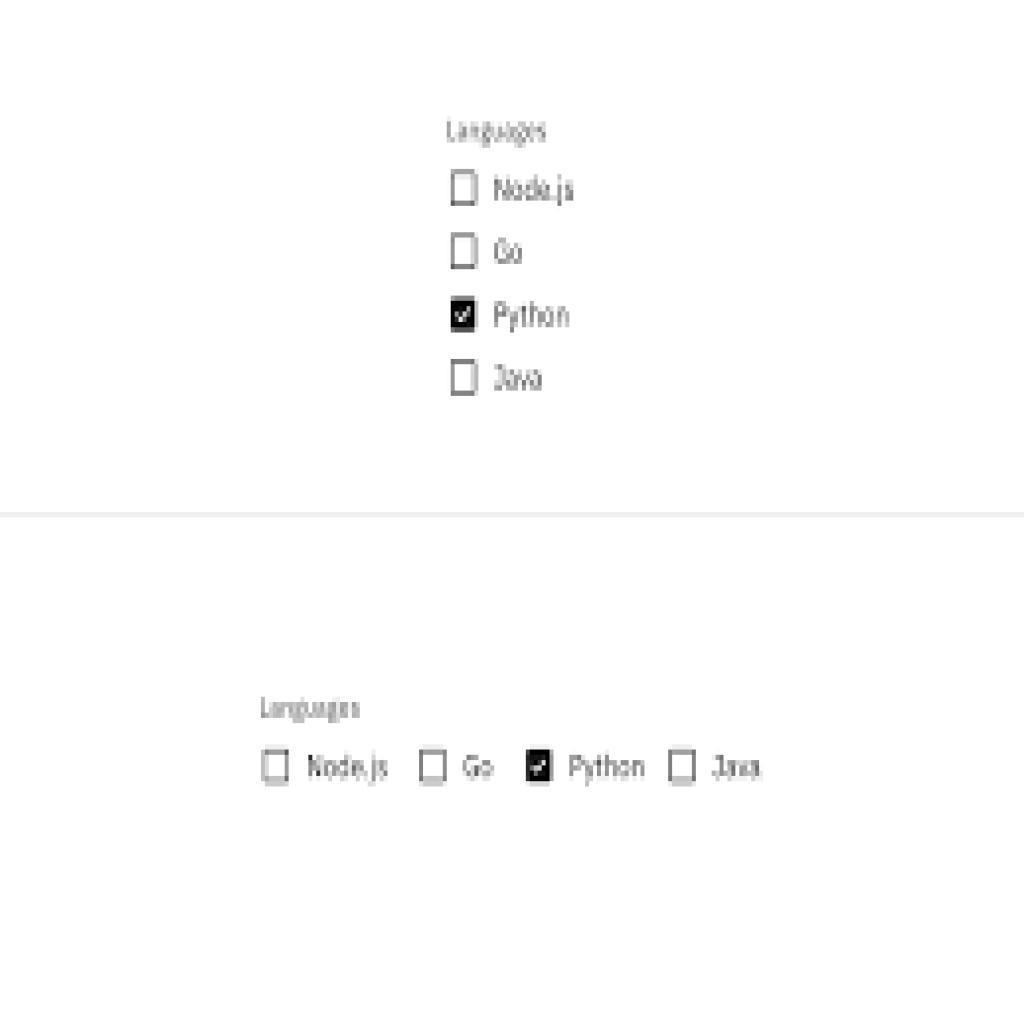checkbox: (669, 747, 697, 788), (525, 750, 556, 787), (451, 297, 481, 335), (452, 169, 480, 207), (452, 360, 481, 396), (452, 233, 480, 270), (420, 751, 448, 788), (264, 750, 289, 787)
label: (489, 170, 587, 211), (491, 299, 582, 340), (565, 749, 651, 787), (306, 751, 391, 787), (491, 359, 549, 399), (712, 752, 767, 784), (492, 234, 530, 275), (462, 752, 499, 783)
